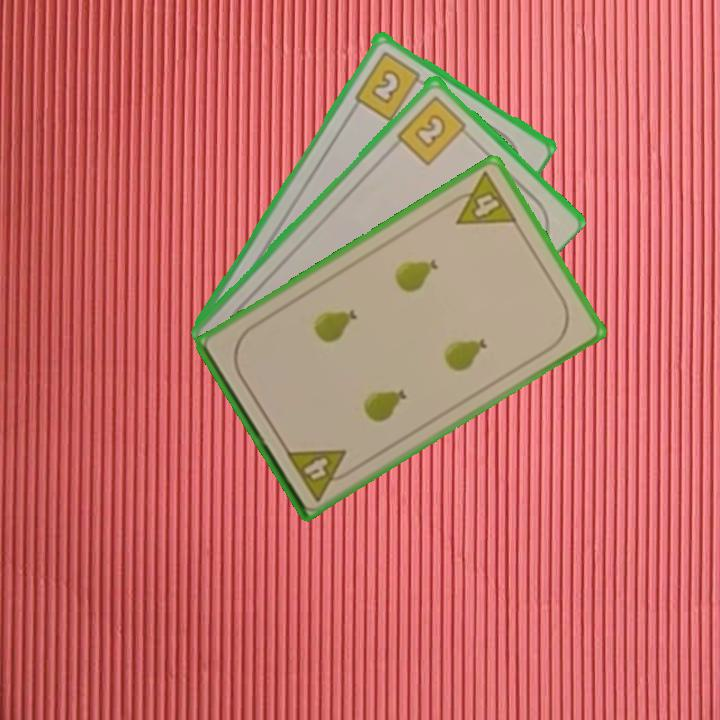2b: (393, 91, 473, 168), (350, 47, 430, 123)
4p: (442, 167, 520, 228), (282, 445, 358, 504)
